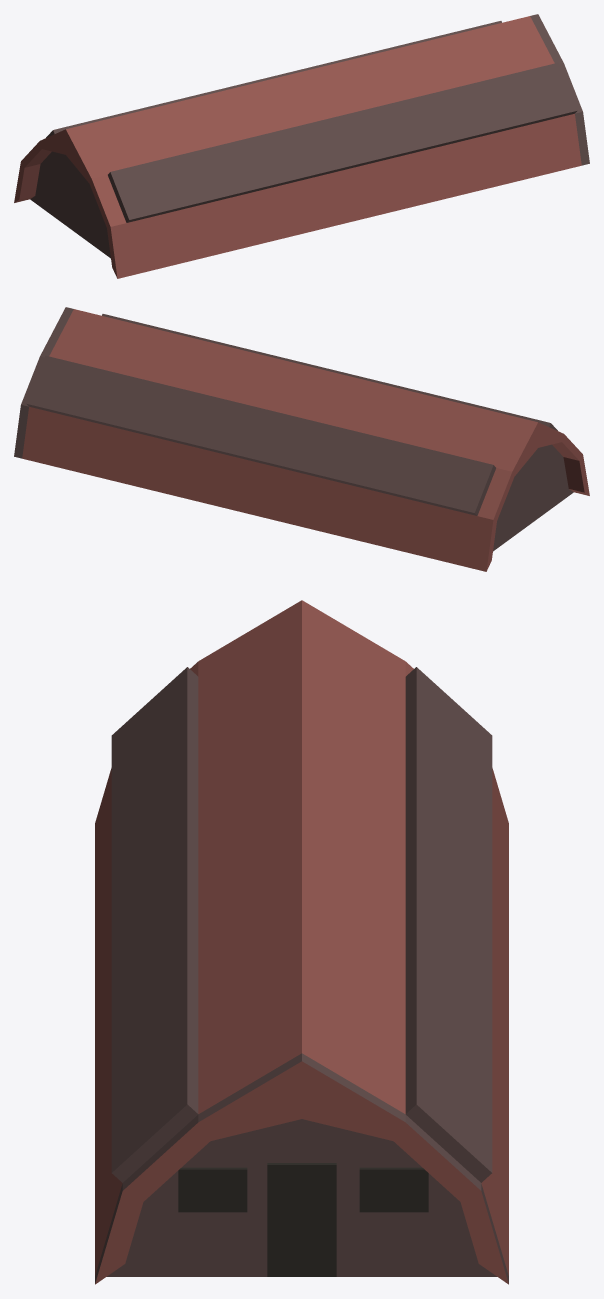
Rendered from SM_Env_Bunker.fbx.
3 views of the same model, one above another, from view 1: azimuth 30°, elevation 25°; view 2: azimuth 150°, elevation 25°; view 3: azimuth 270°, elevation 25° (orthographic). The views are drawn at different scales.
Visible parts, largest first — view 1: Cylinder; view 2: Cylinder; view 3: Cylinder.
Part boxes in pixels (bbox=[...]): Cylinder: bbox=[14, 14, 589, 278]; Cylinder: bbox=[14, 307, 589, 571]; Cylinder: bbox=[95, 600, 508, 1284].
Bounding box in the file's own units: 1200 × 715 × 3162.
